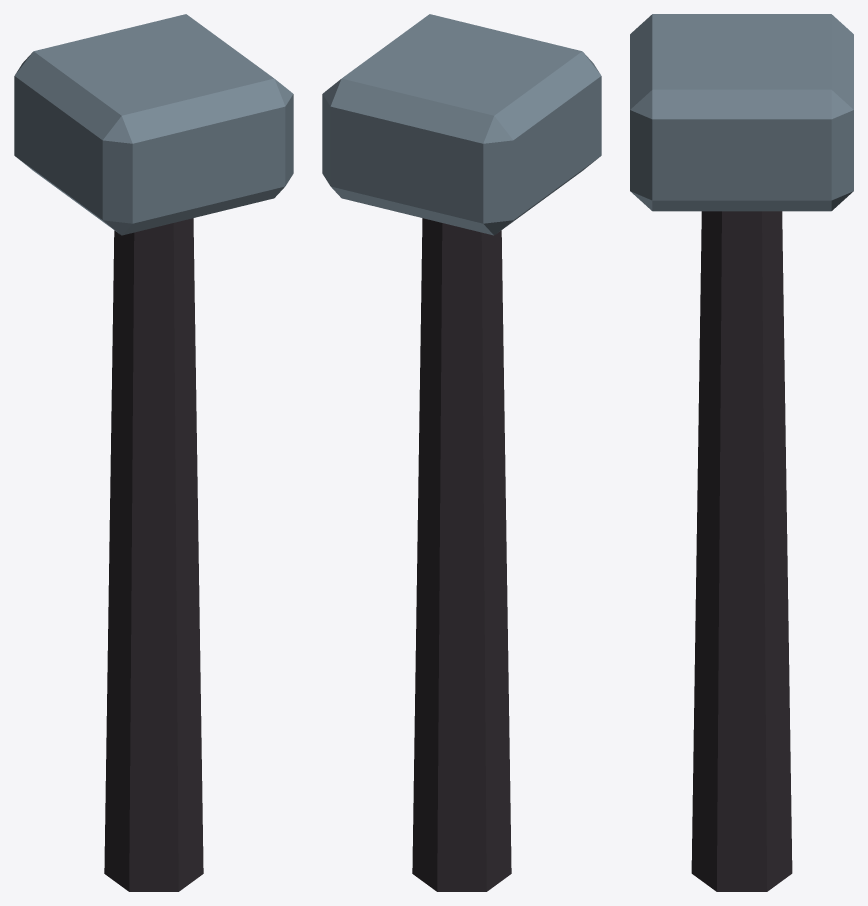
The model's file is enfeite_tocha.glb.
3 views of the same model, side by side, from view 1: azimuth 30°, elevation 25°; view 2: azimuth 150°, elevation 25°; view 3: azimuth 270°, elevation 25° (orthographic).
Visible parts, largest first — view 1: vulcao_enfeite_tocha; view 2: vulcao_enfeite_tocha; view 3: vulcao_enfeite_tocha.
Boxes of the visible parts, box(x1,y1,x2,y2) form: vulcao_enfeite_tocha: box(14, 14, 293, 891); vulcao_enfeite_tocha: box(322, 14, 601, 891); vulcao_enfeite_tocha: box(630, 14, 853, 891).
Bounding box in the file's own units: 0.2 × 0.81 × 0.2.
